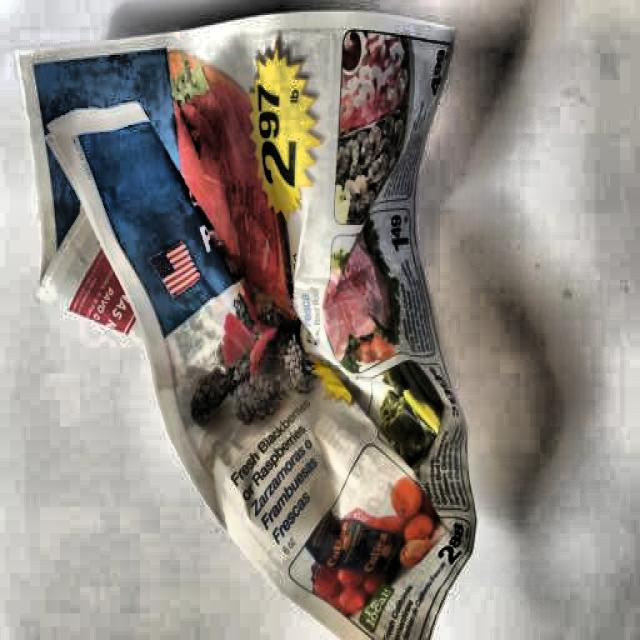paper: (15, 9, 478, 640)
